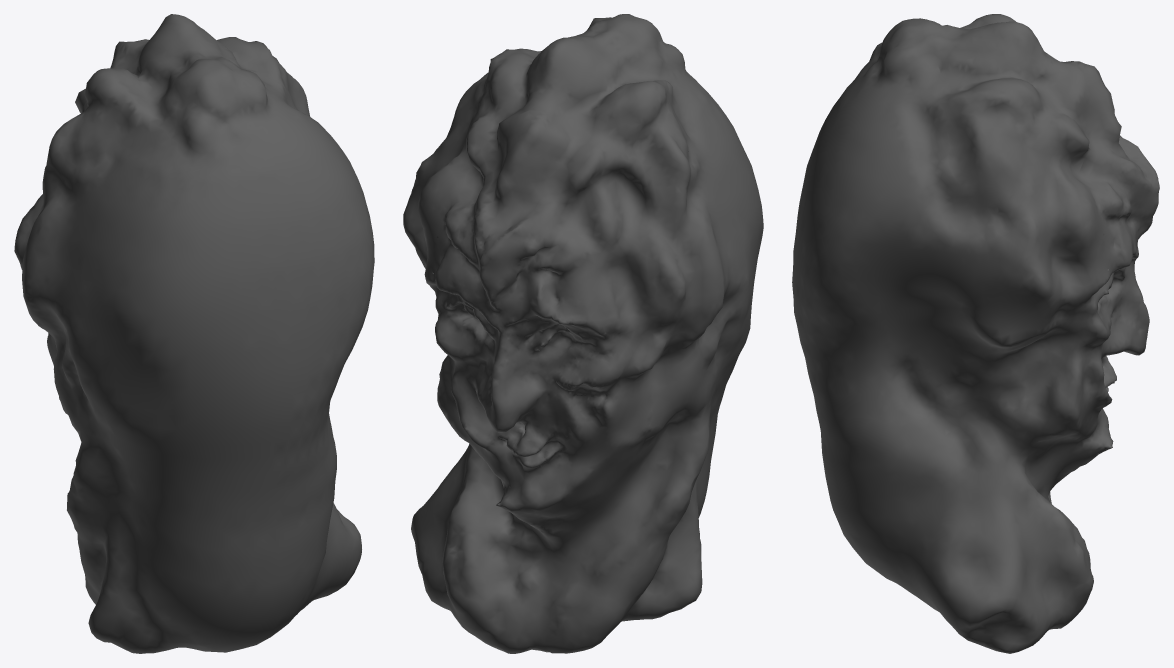
Rendered from 09_picasso.glb.
3 views of the same model, side by side, from view 1: azimuth 30°, elevation 25°; view 2: azimuth 150°, elevation 25°; view 3: azimuth 270°, elevation 25° (orthographic). The views are drawn at different scales.
Parts seen in each view (by area): view 1: Sphere; view 2: Sphere; view 3: Sphere.
Part boxes in pixels (x1,y1,x2,y2): Sphere: (14, 14, 374, 653); Sphere: (403, 14, 763, 653); Sphere: (792, 14, 1159, 653).
Bounding box in the file's own units: 6.4 × 11.63 × 6.68.
1 material, 1 textured.
